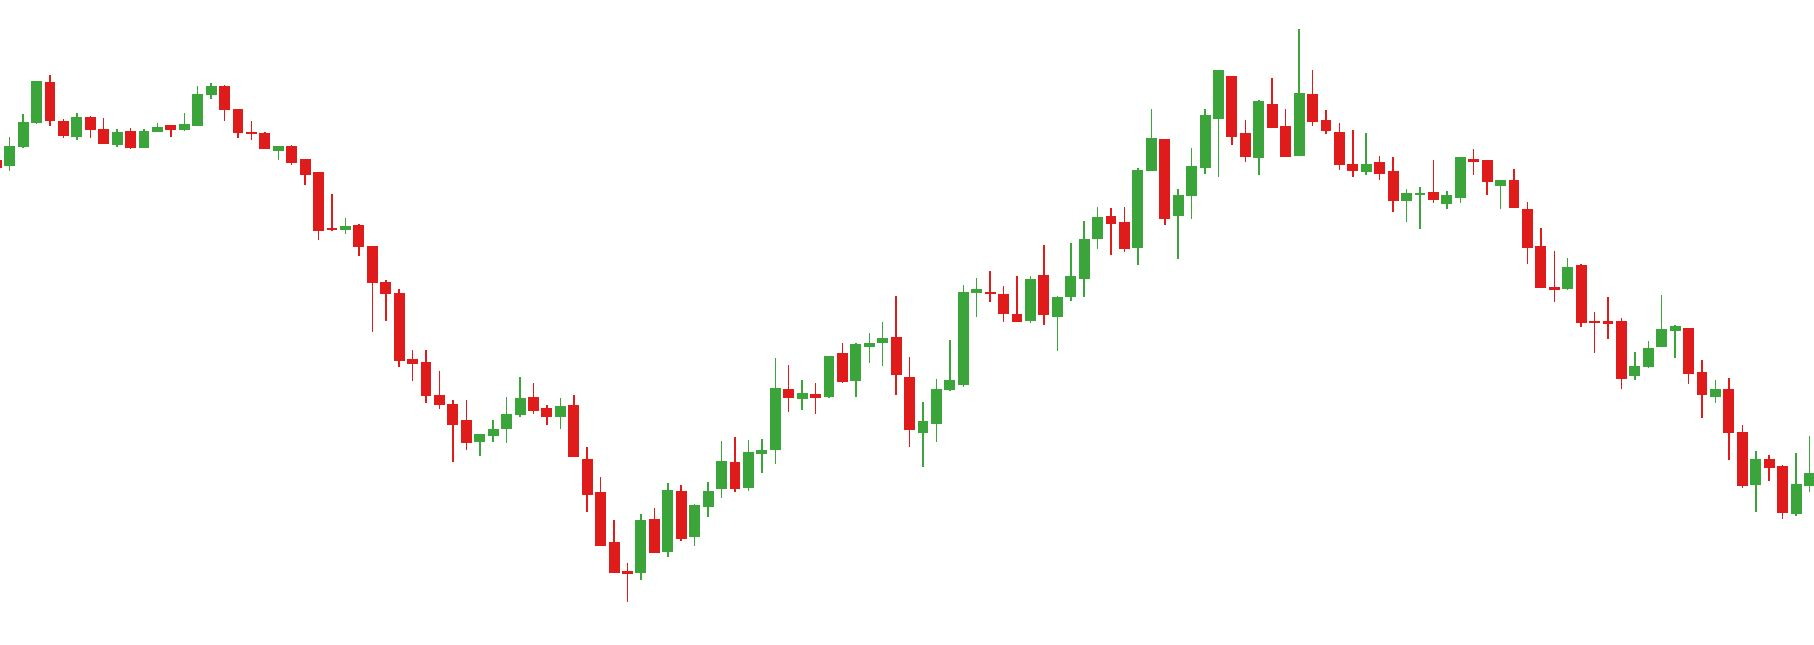buy: (783, 354, 945, 470)
sell: (1205, 24, 1321, 142)
